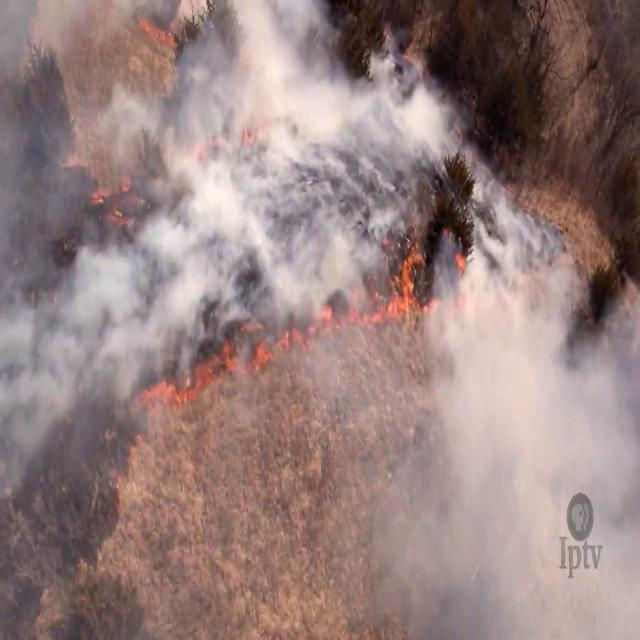Fire: (141, 248, 467, 408)
Smoke: (0, 1, 640, 640)
